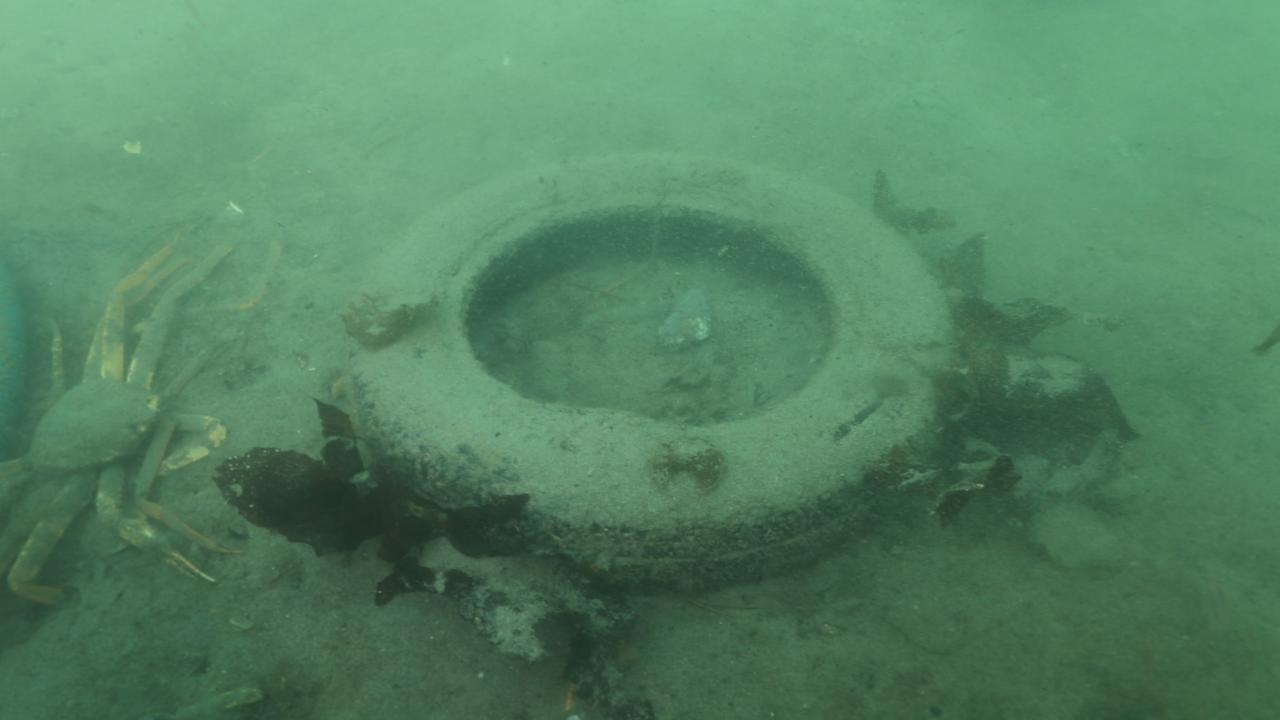tire: (349, 151, 957, 593)
